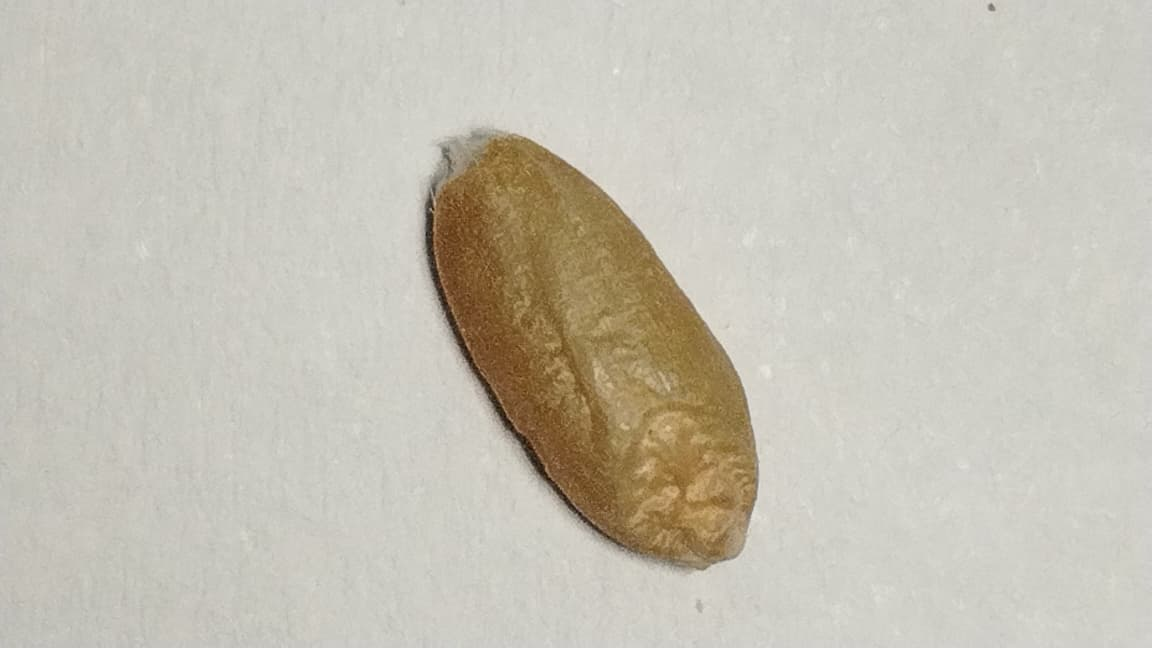healthy: (432, 135, 756, 568)
